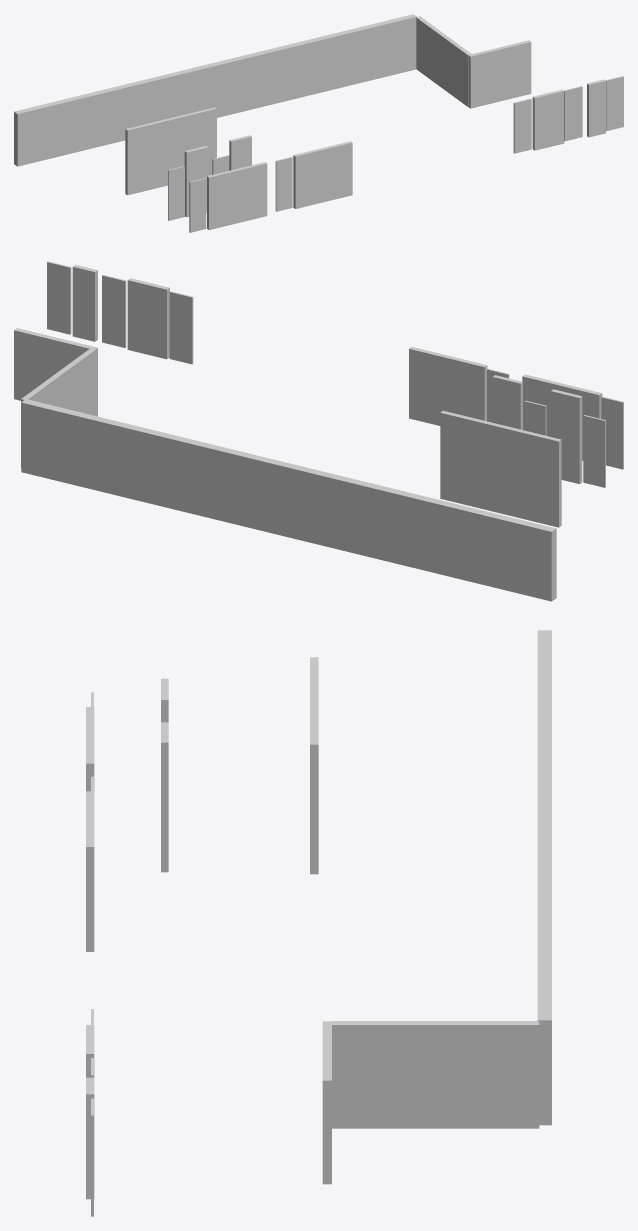
File: Glass.obj
The picture shows the model from 3 angles, top to bottom: view 1: azimuth 30°, elevation 25°; view 2: azimuth 150°, elevation 25°; view 3: azimuth 270°, elevation 25°; orthographic projection. The views are drawn at different scales.
Parts seen in each view (by area): view 1: Main - Top, Guild Meeting room glass wall, Theatrette - Bottom Left glass wall, GuildClubs Glass wall, GuildClubs Glass wall.003, Theatrette - glass wall, parent & care/guild meeting glass wall.001, parent & care/guild meeting glass wall.002, GuildClubs Glass wall.001, door glass, door glass.001, door glass.004 (+4 smaller); view 2: Main - Top, Guild Meeting room glass wall, GuildClubs Glass wall.003, Theatrette - Bottom Left glass wall, parent & care/guild meeting glass wall.001, Theatrette - glass wall, GuildClubs Glass wall.001, parent & care/guild meeting glass wall.002, GuildClubs Glass wall, door glass.001, door glass.004, door glass (+4 smaller); view 3: Theatrette - glass wall, Main - Top, Guild Meeting room glass wall, Theatrette - Bottom Left glass wall, GuildClubs Glass wall.003, GuildClubs Glass wall.002, parent & care/guild meeting glass wall.002.
Boxes of the visible parts, box(x1,y1,x2,y2) form: Main - Top: box(14, 14, 416, 166); Guild Meeting room glass wall: box(125, 107, 216, 195); Theatrette - Bottom Left glass wall: box(468, 40, 531, 108); GuildClubs Glass wall: box(207, 162, 267, 229); GuildClubs Glass wall.003: box(293, 141, 352, 208); Theatrette - glass wall: box(416, 16, 471, 106); parent & care/guild meeting glass wall.001: box(532, 89, 564, 150); parent & care/guild meeting glass wall.002: box(587, 79, 605, 137); GuildClubs Glass wall.001: box(184, 146, 208, 217); door glass: box(513, 98, 531, 153); door glass.001: box(564, 86, 582, 141); door glass.004: box(605, 76, 623, 131); Main - Top: box(21, 399, 556, 601); Guild Meeting room glass wall: box(440, 410, 561, 527); GuildClubs Glass wall.003: box(409, 347, 487, 425); Theatrette - Bottom Left glass wall: box(14, 328, 97, 416); parent & care/guild meeting glass wall.001: box(127, 278, 169, 359); Theatrette - glass wall: box(21, 349, 95, 467); GuildClubs Glass wall.001: box(550, 389, 582, 483); parent & care/guild meeting glass wall.002: box(72, 264, 97, 341); GuildClubs Glass wall: box(522, 374, 602, 460); door glass.001: box(102, 275, 126, 347); door glass.004: box(47, 261, 71, 334); door glass: box(169, 291, 193, 364); Theatrette - glass wall: box(331, 1021, 539, 1128); Main - Top: box(537, 630, 551, 1125); Guild Meeting room glass wall: box(310, 657, 318, 874); Theatrette - Bottom Left glass wall: box(322, 1021, 331, 1184); GuildClubs Glass wall.003: box(86, 791, 94, 951); GuildClubs Glass wall.002: box(161, 722, 168, 872); parent & care/guild meeting glass wall.002: box(86, 1077, 94, 1199).
Size of the model in its own units: 23.95 by 3 by 9.77.
